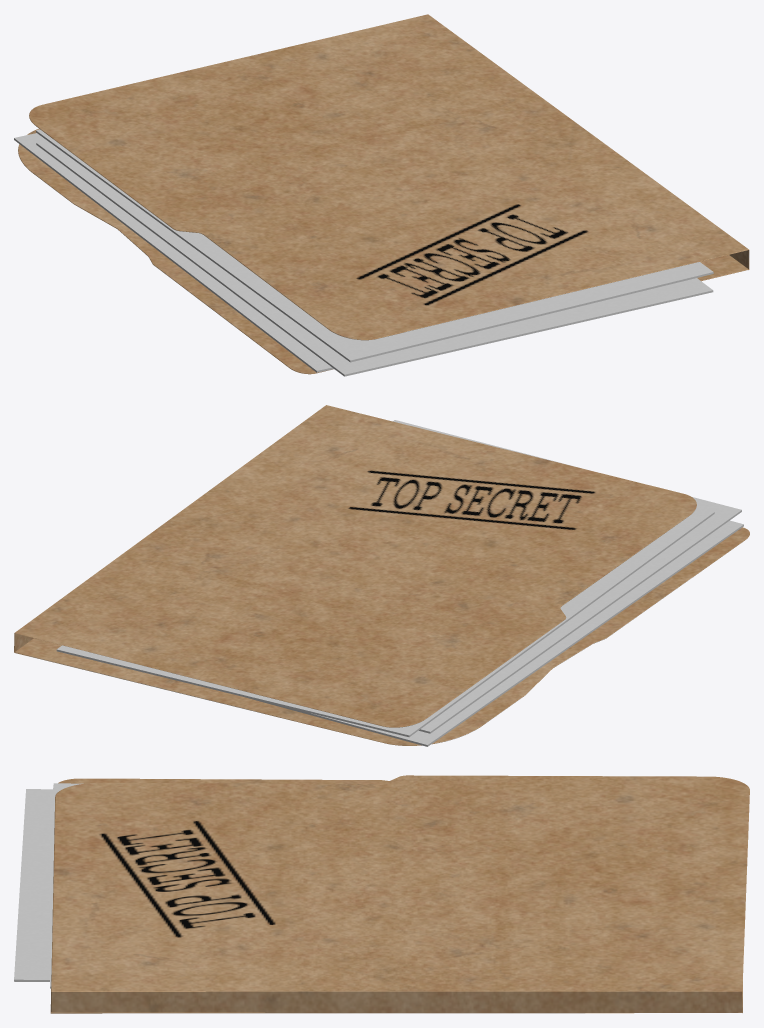
The model's file is folder.glb.
3 views of the same model, one above another, from view 1: azimuth 30°, elevation 25°; view 2: azimuth 150°, elevation 25°; view 3: azimuth 270°, elevation 25° (orthographic). The views are drawn at different scales.
Visible parts, largest first — view 1: Plane; view 2: Plane; view 3: Plane.
Part boxes in pixels (box(x1,y1,x2,y2)): Plane: box(14, 14, 749, 376); Plane: box(14, 405, 749, 746); Plane: box(14, 775, 749, 1013).
Size of the model in its own units: 0.5649 by 0.0257 by 0.7498.
1 material, 1 textured.
